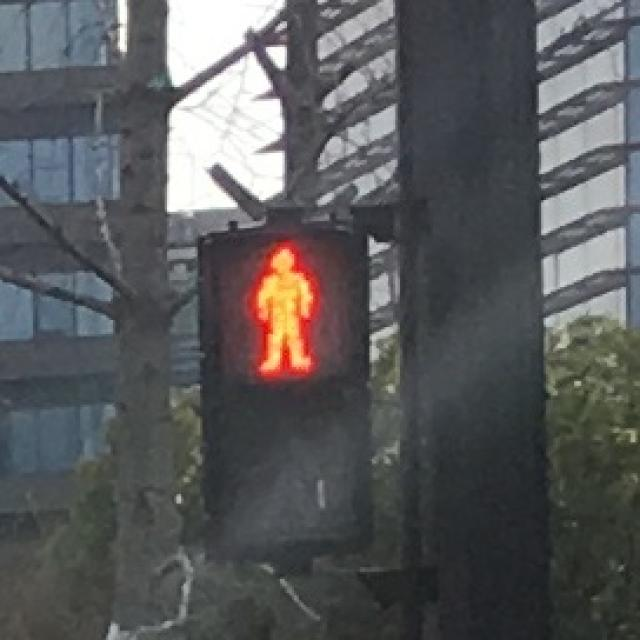red_light: (217, 235, 351, 384)
